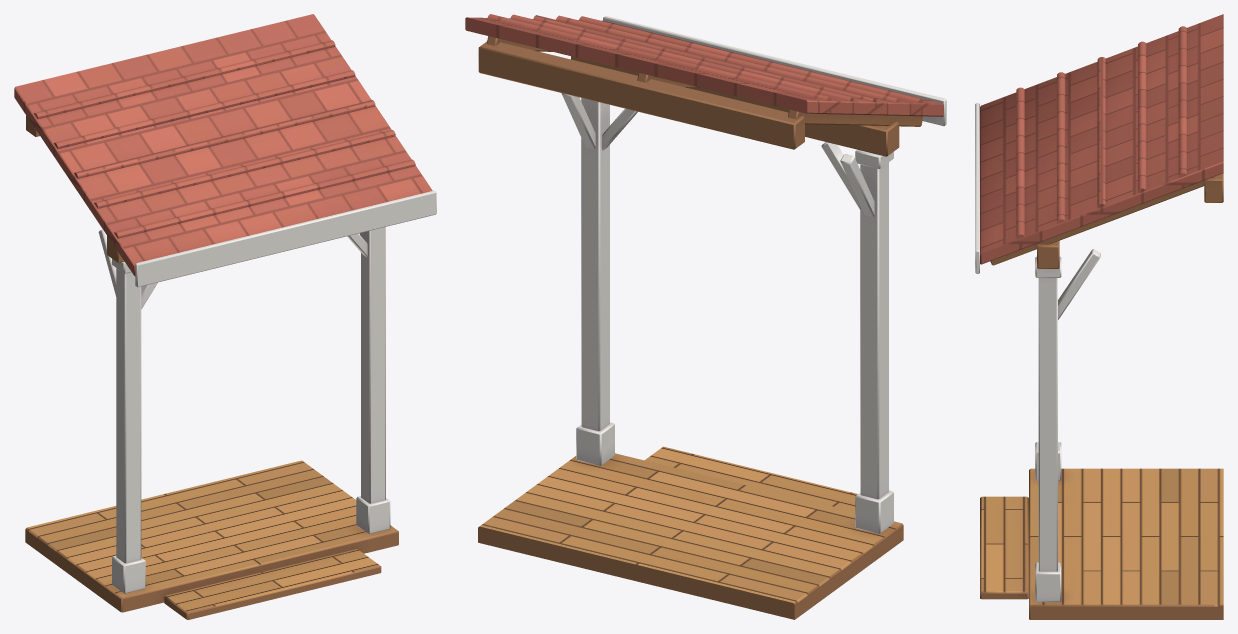
The model's file is porch.glb.
The picture shows the model from 3 angles, left to right: view 1: azimuth 30°, elevation 25°; view 2: azimuth 150°, elevation 25°; view 3: azimuth 270°, elevation 25°; orthographic projection. The views are drawn at different scales.
Parts seen in each view (by area): view 1: porch_body; view 2: porch_body; view 3: porch_body.
Part boxes in pixels (left/top/right/bottom): porch_body: left=14, top=14, right=436, bottom=619; porch_body: left=465, top=14, right=946, bottom=619; porch_body: left=975, top=14, right=1223, bottom=619.
Size of the model in its own units: 2.16 by 3.15 by 1.53.
Materials: 1 (1 with a texture image).
